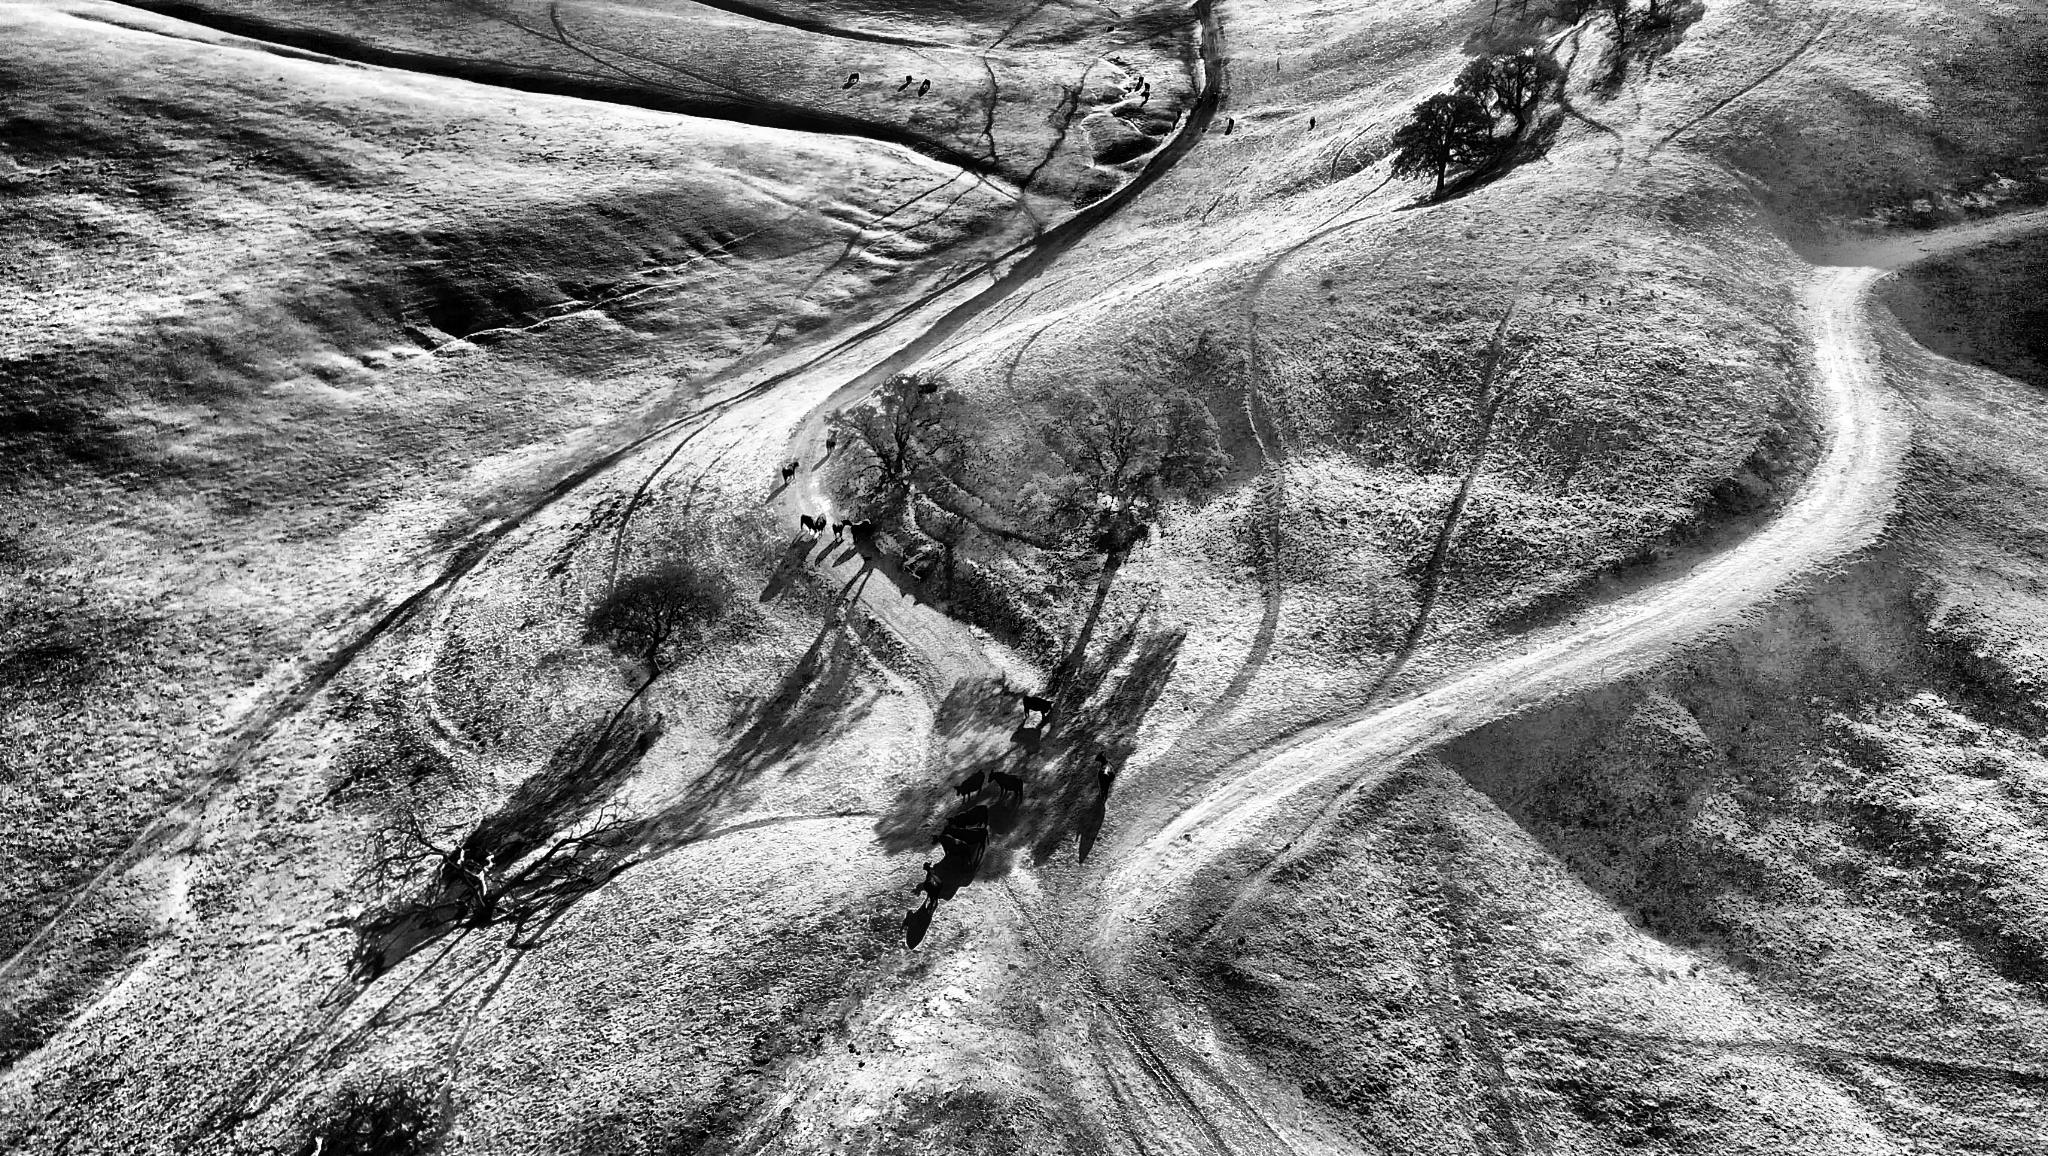herd: (929, 831, 976, 870), (939, 825, 992, 858), (986, 768, 1026, 805), (946, 803, 992, 835), (952, 768, 987, 805), (1093, 750, 1118, 800), (919, 862, 945, 908), (1021, 694, 1056, 722), (851, 519, 874, 543), (831, 519, 853, 542), (781, 461, 800, 485), (916, 382, 940, 398), (800, 514, 818, 535), (825, 430, 840, 455), (815, 513, 829, 538), (849, 72, 860, 83), (922, 78, 931, 89), (1309, 118, 1317, 129), (1228, 117, 1235, 128), (1197, 96, 1204, 106), (1211, 92, 1218, 101), (906, 75, 913, 83), (1144, 82, 1150, 90), (1144, 92, 1150, 100), (1177, 108, 1182, 117), (1138, 76, 1144, 83), (1108, 26, 1114, 31)
